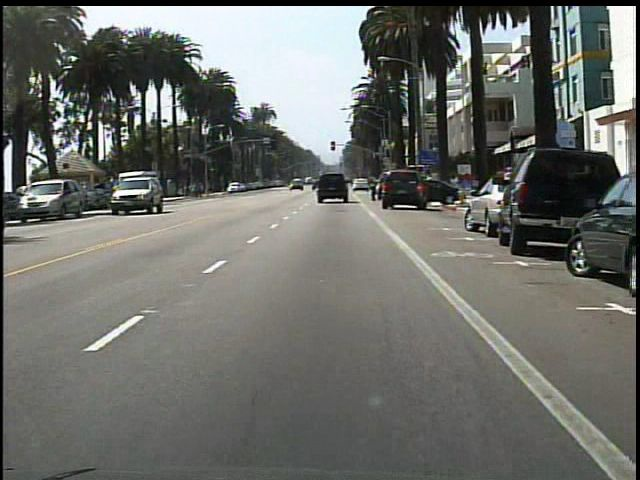person: (366, 174, 382, 204)
